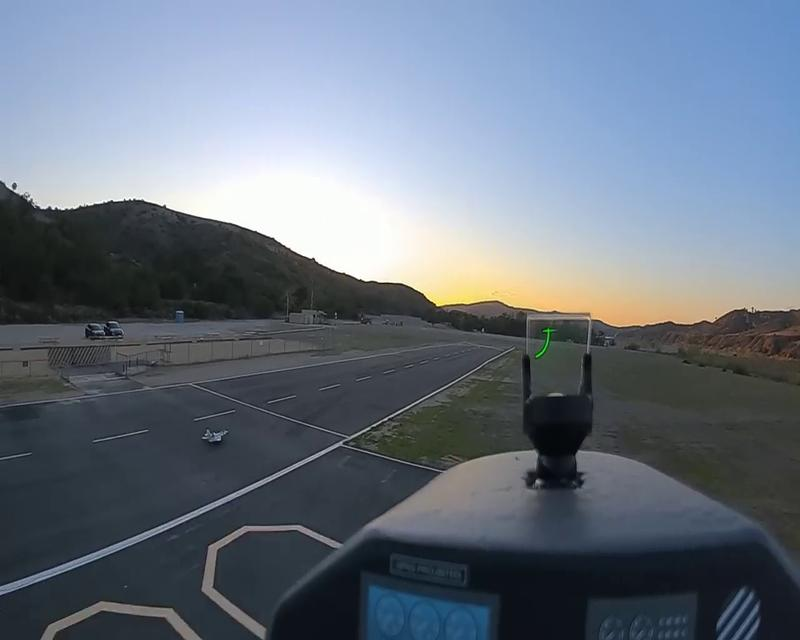UAV: (201, 428, 230, 444)
